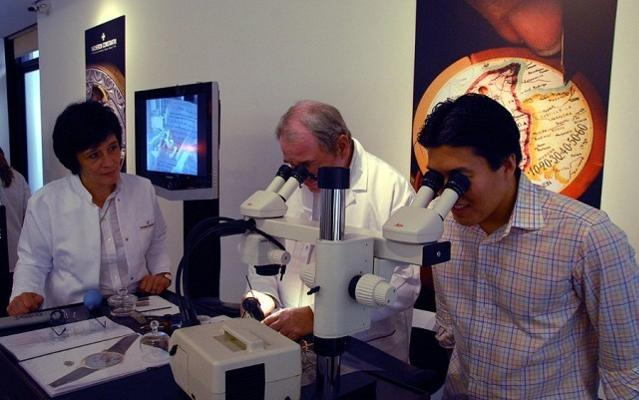person: (239, 101, 422, 369)
